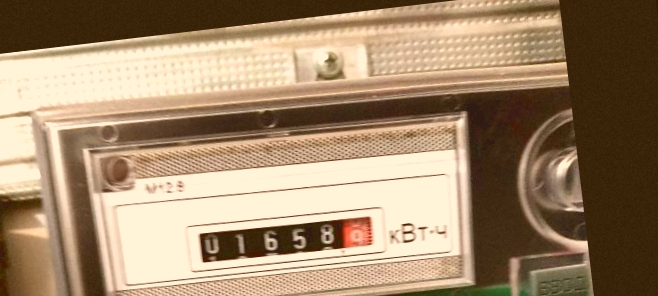0: (201, 232, 220, 255)
1: (231, 230, 248, 255)
5: (289, 224, 307, 250)
6: (260, 227, 280, 253)
8: (317, 221, 336, 245)
9: (346, 226, 365, 248)
screen: (180, 198, 392, 280)
